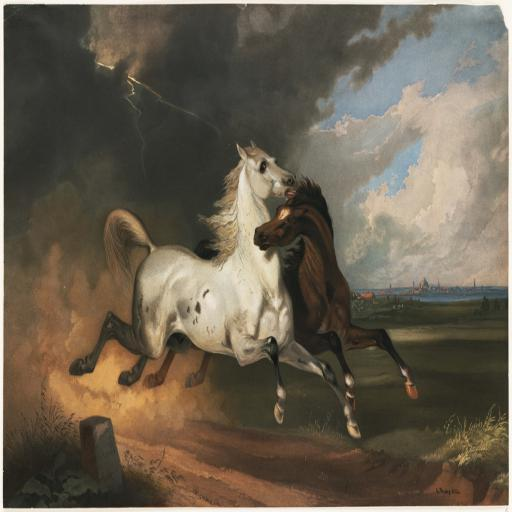Horse: (66, 138, 362, 441), (142, 169, 422, 403)
